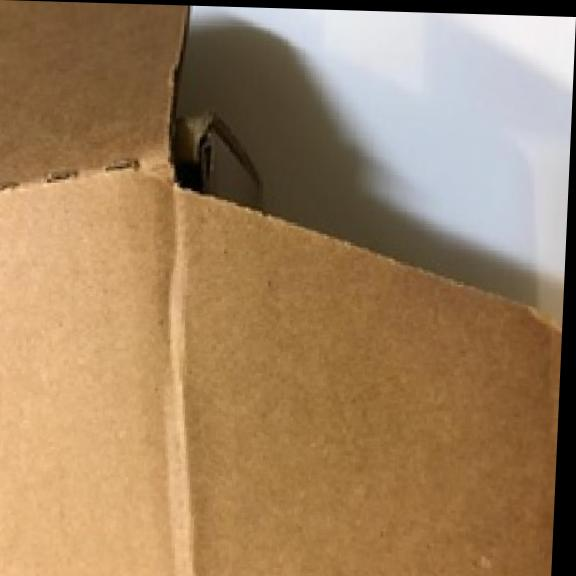Kertas: (0, 0, 576, 576), (0, 0, 559, 576)
